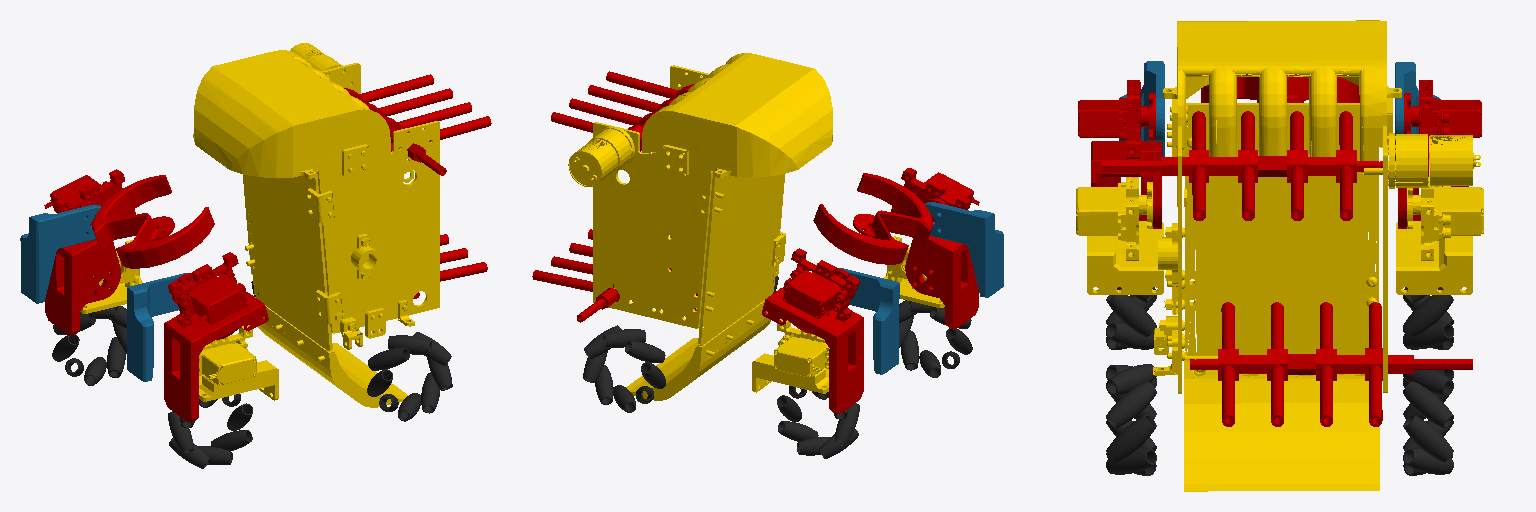
--- What the picture shows (computed from the rendered views, not written in the file) ---
Views: 3 orthographic renders of the robot side by side, from view 1: azimuth 30°, elevation 25°; view 2: azimuth 150°, elevation 25°; view 3: azimuth 270°, elevation 25°.
Model bloodstone with 55 links and 54 joints (43 continuous, 11 fixed), rooted at base_link, posed all joints at 0.
Links seen in each view (by area): view 1: intake_link, left_bin_grabber_pivot_link, right_bin_grabber_pivot_link, sorter_turntable_link, right_bin_grabber_finger_link, left_bin_grabber_base_link, intake_roller_1_link, left_bin_grabber_finger_link, right_bin_grabber_base_link, intake_roller_2_link, rear_right_roller_1, rear_right_roller_2 (+4 smaller); view 2: intake_link, right_bin_grabber_pivot_link, left_bin_grabber_pivot_link, sorter_turntable_link, left_bin_grabber_finger_link, right_bin_grabber_base_link, right_bin_grabber_finger_link, intake_roller_1_link, intake_roller_2_link, left_bin_grabber_base_link, front_right_roller_5, front_right_roller_6 (+4 smaller); view 3: intake_link, intake_roller_2_link, intake_roller_1_link, right_bin_grabber_base_link, left_bin_grabber_base_link, left_bin_grabber_pivot_link, right_bin_grabber_pivot_link, sorter_turntable_link, left_bin_grabber_finger_link, front_right_roller_7, rear_right_roller_3, front_right_roller_0 (+10 smaller).
Link boxes in pixels (x1,y1,x2,y2): intake_link: [193, 43, 439, 407]; left_bin_grabber_pivot_link: [164, 252, 268, 422]; right_bin_grabber_pivot_link: [44, 169, 135, 335]; sorter_turntable_link: [92, 175, 214, 268]; right_bin_grabber_finger_link: [20, 204, 100, 303]; left_bin_grabber_base_link: [199, 325, 278, 401]; intake_roller_1_link: [344, 74, 491, 175]; left_bin_grabber_finger_link: [127, 273, 192, 381]; right_bin_grabber_base_link: [80, 240, 142, 313]; intake_roller_2_link: [413, 234, 487, 298]; rear_right_roller_1: [368, 348, 409, 370]; rear_right_roller_2: [388, 335, 431, 354]; intake_link: [568, 53, 832, 400]; right_bin_grabber_pivot_link: [762, 248, 863, 413]; left_bin_grabber_pivot_link: [891, 168, 979, 328]; sorter_turntable_link: [813, 173, 932, 264]; left_bin_grabber_finger_link: [925, 202, 1003, 297]; right_bin_grabber_base_link: [752, 319, 829, 393]; right_bin_grabber_finger_link: [838, 268, 899, 374]; intake_roller_1_link: [551, 71, 694, 151]; intake_roller_2_link: [532, 229, 697, 322]; left_bin_grabber_base_link: [884, 236, 944, 307]; front_right_roller_5: [625, 341, 665, 362]; front_right_roller_6: [603, 329, 645, 347]; intake_link: [1153, 20, 1480, 491]; intake_roller_2_link: [1190, 302, 1472, 426]; intake_roller_1_link: [1102, 111, 1382, 220]; right_bin_grabber_base_link: [1396, 177, 1483, 294]; left_bin_grabber_base_link: [1076, 177, 1163, 294]; left_bin_grabber_pivot_link: [1078, 80, 1161, 228]; right_bin_grabber_pivot_link: [1398, 80, 1481, 228]; sorter_turntable_link: [1201, 74, 1359, 102]; left_bin_grabber_finger_link: [1119, 61, 1164, 156]; front_right_roller_7: [1403, 381, 1453, 427]; rear_right_roller_3: [1106, 381, 1156, 427]; front_right_roller_0: [1403, 415, 1453, 461].
Bounding box of the posed robot: 0.388 × 0.2765 × 0.2949 m (x, y, z).
42 mesh visuals loaded from 15 distinct referenced files (10 binary STL); not drawn: 7 (reference not matched to a file when rendering).

robot.urdf — bloodstone:
<?xml version="1.0" ?><!-- =================================================================================== --><!-- |    This document was autogenerated by xacro from /workspace/DevEnv/jazzy_ws/install/grr_description/share/grr_description/urdf/robots/grreg.urdf.xacro | --><!-- |    EDITING THIS FILE BY HAND IS NOT RECOMMENDED                                 | --><!-- =================================================================================== --><robot name="bloodstone"><!-- Specify some standard inertial calculations https://en.wikipedia.org/wiki/List_of_moments_of_inertia --><!-- These make use of xacro's mathematical functionality --><material name="black"><color rgba="0.0 0.0 0.0 1.0"/></material><material name="blue"><color rgba="0.13725490196078433 0.43137254901960786 0.5882352941176471 1.0"/></material><material name="green"><color rgba="0.0 0.8 0.0 1.0"/></material><material name="grey"><color rgba="0.2 0.2 0.2 1.0"/></material><material name="yellow"><color rgba="1.0 0.8431372549019608 0.0 1"/></material><material name="orange"><color rgba="0.9529411764705882 0.5294117647058824 0.1843137254901961 1"/></material><material name="brown"><color rgba="0.8705882352941177 0.8117647058823529 0.7647058823529411 1.0"/></material><material name="red"><color rgba="0.8 0.0 0.0 1.0"/></material><material name="white"><color rgba="1.0 1.0 1.0 1.0"/></material><material name="silver"><color rgba="0.700 0.700 0.700 1.000"/></material><material name="aluminum"><color rgba="0.5 0.5 0.5 1"/></material><material name="plastic"><color rgba="0.1 0.1 0.1 1"/></material><material name="zed_mat"><color rgba="0.8 0.8 0.8 1.0"/></material><material name="zedm_mat"><color rgba="0 0 0 1.0"/></material><material name="zed2_mat"><color rgba="0.25 0.25 0.25 1.0"/></material><material name="zed2i_mat"><color rgba="0.25 0.25 0.25 1.0"/></material><material name="zedx_mat"><color rgba="0.25 0.25 0.25 1.0"/></material><material name="zedxm_mat"><color rgba="0.25 0.25 0.25 1.0"/></material><material name="virtual_mat"><color rgba="0.25 0.25 0.25 1.0"/></material><material name="zedxonegs_mat"><color rgba="0.25 0.25 0.25 1.0"/></material><material name="zedxone4k_mat"><color rgba="0.25 0.25 0.25 1.0"/></material><link name="base_link"/><link name="chassis_link"><inertial><origin rpy="0 0 0" xyz="0 0 0"/><mass value="2.45"/><inertia ixx="0.025954687500000004" ixy="0.0" ixz="0.0" iyy="0.0103359375" iyz="0.0" izz="0.028848750000000003"/></inertial><visual><origin rpy="0 0 3.141592653589793" xyz="0 0 0"/><geometry><mesh filename="package://grr_description/meshes/drivebase.stl" scale="1 1 1"/></geometry><!-- <material name="blue"/> --></visual><collision><origin rpy="0 0 0" xyz="0 0 0"/><geometry><box size="0.18 0.33 0.0675"/></geometry></collision></link><joint name="chassis_joint" type="fixed"><parent link="base_link"/><child link="chassis_link"/><origin rpy="0 0 0" xyz="0 0 0"/></joint><link name="front_right_mecanum_link"><inertial><origin rpy="0 1.5707963267948966 0" xyz="0 0 0"/><mass value="1.1360000000000001"/><inertia ixx="0.00042284766390000004" ixy="0.0" ixz="0.0" iyy="0.00042284766390000004" iyz="0.0" izz="0.0005117113278"/></inertial><visual><origin rpy="0 0 0" xyz="0 0 0"/><geometry><mesh filename="package://grr_description/meshes/mecanum_wheel_1.stl" scale="0.001 0.001 0.001"/></geometry><material name="orange"/></visual><collision><origin rpy="0 0 0" xyz="0 0 0"/><geometry><cylinder length="0.042" radius="0.030015"/></geometry></collision></link><joint name="front_right_mecanum_joint" type="continuous"><origin rpy="0 1.5707963267948966 0" xyz="0.10075 0.10075 0"/><parent link="chassis_link"/><child link="front_right_mecanum_link"/><axis xyz="0.0 -1.0 0.0 "/></joint><!-- <xacro:if value="${number==1}">
    </xacro:if>
    <xacro:if value="${number==3}">
    </xacro:if>
    <xacro:if value="${number==5}">
    </xacro:if>
    <xacro:if value="${number==7}">
      <xacro:property name="roller_x_rot" value="${(sin(roller_radians) * (pi/4) * type_offset)+(1.831*pi/180)}" />
      <xacro:property name="roller_y_rot" value="${(cos(roller_radians) * (pi/4) * type_offset)+(3.095*pi/180)}" />
      <xacro:property name="roller_z_rot" value="${(5.395*pi/180)}"/>
    </xacro:if> --><link name="front_right_roller_0"><visual><origin rpy="0 0 -1.5707963267948966 " xyz="0 0 0"/><geometry><mesh filename="package://grr_description/meshes/mecanum_roller.stl" scale="0.001 0.001 0.001"/></geometry><material name="grey"/></visual><collision><origin rpy="0 0 0" xyz="0 0 0"/><geometry><mesh filename="package://grr_description/meshes/mecanum_roller.stl" scale="0.001 0.001 0.001"/></geometry></collision><inertial><origin rpy="0 0 0" xyz="0 0 0"/><mass value="0.07"/><inertia ixx="9.426025000000001e-06" ixy="0.0" ixz="0.0" iyy="9.426025000000001e-06" iyz="0.0" izz="1.9166000000000004e-06"/></inertial></link><joint name="front_right_roller_0_joint" type="continuous"><origin rpy="-0.0 0 -0.7853981633974483" xyz="0.0 0 0.030015"/><parent link="front_right_mecanum_link"/><child link="front_right_roller_0"/><axis xyz="0.0 0.0 1.0"/></joint><!-- <xacro:if value="${number==1}">
    </xacro:if>
    <xacro:if value="${number==3}">
    </xacro:if>
    <xacro:if value="${number==5}">
    </xacro:if>
    <xacro:if value="${number==7}">
      <xacro:property name="roller_x_rot" value="${(sin(roller_radians) * (pi/4) * type_offset)+(1.831*pi/180)}" />
      <xacro:property name="roller_y_rot" value="${(cos(roller_radians) * (pi/4) * type_offset)+(3.095*pi/180)}" />
      <xacro:property name="roller_z_rot" value="${(5.395*pi/180)}"/>
    </xacro:if> --><link name="front_right_roller_1"><visual><origin rpy="0 0 -1.5707963267948966 " xyz="0 0 0"/><geometry><mesh filename="package://grr_description/meshes/mecanum_roller.stl" scale="0.001 0.001 0.001"/></geometry><material name="grey"/></visual><collision><origin rpy="0 0 0" xyz="0 0 0"/><geometry><mesh filename="package://grr_description/meshes/mecanum_roller.stl" scale="0.001 0.001 0.001"/></geometry></collision><inertial><origin rpy="0 0 0" xyz="0 0 0"/><mass value="0.07"/><inertia ixx="9.426025000000001e-06" ixy="0.0" ixz="0.0" iyy="9.426025000000001e-06" iyz="0.0" izz="1.9166000000000004e-06"/></inertial></link><joint name="front_right_roller_1_joint" type="continuous"><origin rpy="-0.5553603672697958 0 -0.5553603672697958" xyz="0.02122381003731422 0 0.021223810037314224"/><parent link="front_right_mecanum_link"/><child link="front_right_roller_1"/><axis xyz="0.0 0.0 1.0"/></joint><!-- <xacro:if value="${number==1}">
    </xacro:if>
    <xacro:if value="${number==3}">
    </xacro:if>
    <xacro:if value="${number==5}">
    </xacro:if>
    <xacro:if value="${number==7}">
      <xacro:property name="roller_x_rot" value="${(sin(roller_radians) * (pi/4) * type_offset)+(1.831*pi/180)}" />
      <xacro:property name="roller_y_rot" value="${(cos(roller_radians) * (pi/4) * type_offset)+(3.095*pi/180)}" />
      <xacro:property name="roller_z_rot" value="${(5.395*pi/180)}"/>
    </xacro:if> --><link name="front_right_roller_2"><visual><origin rpy="0 0 -1.5707963267948966 " xyz="0 0 0"/><geometry><mesh filename="package://grr_description/meshes/mecanum_roller.stl" scale="0.001 0.001 0.001"/></geometry><material name="grey"/></visual><collision><origin rpy="0 0 0" xyz="0 0 0"/><geometry><mesh filename="package://grr_description/meshes/mecanum_roller.stl" scale="0.001 0.001 0.001"/></geometry></collision><inertial><origin rpy="0 0 0" xyz="0 0 0"/><mass value="0.07"/><inertia ixx="9.426025000000001e-06" ixy="0.0" ixz="0.0" iyy="9.426025000000001e-06" iyz="0.0" izz="1.9166000000000004e-06"/></inertial></link><joint name="front_right_roller_2_joint" type="continuous"><origin rpy="-0.7853981633974483 0 -4.8091767343044744e-17" xyz="0.030015 0 1.8378886838203904e-18"/><parent link="front_right_mecanum_link"/><child link="front_right_roller_2"/><axis xyz="0.0 0.0 1.0"/></joint><!-- <xacro:if value="${number==1}">
    </xacro:if>
    <xacro:if value="${number==3}">
    </xacro:if>
    <xacro:if value="${number==5}">
    </xacro:if>
    <xacro:if value="${number==7}">
      <xacro:property name="roller_x_rot" value="${(sin(roller_radians) * (pi/4) * type_offset)+(1.831*pi/180)}" />
      <xacro:property name="roller_y_rot" value="${(cos(roller_radians) * (pi/4) * type_offset)+(3.095*pi/180)}" />
      <xacro:property name="roller_z_rot" value="${(5.395*pi/180)}"/>
    </xacro:if> --><link name="front_right_roller_3"><visual><origin rpy="0 0 -1.5707963267948966 " xyz="0 0 0"/><geometry><mesh filename="package://grr_description/meshes/mecanum_roller.stl" scale="0.001 0.001 0.001"/></geometry><material name="grey"/></visual><collision><origin rpy="0 0 0" xyz="0 0 0"/><geometry><mesh filename="package://grr_description/meshes/mecanum_roller.stl" scale="0.001 0.001 0.001"/></geometry></collision><inertial><origin rpy="0 0 0" xyz="0 0 0"/><mass value="0.07"/><inertia ixx="9.426025000000001e-06" ixy="0.0" ixz="0.0" iyy="9.426025000000001e-06" iyz="0.0" izz="1.9166000000000004e-06"/></inertial></link><joint name="front_right_roller_3_joint" type="continuous"><origin rpy="-0.5553603672697958 0 0.5553603672697958" xyz="0.021223810037314224 0 -0.02122381003731422"/><parent link="front_right_mecanum_link"/><child link="front_right_roller_3"/><axis xyz="0.0 0.0 1.0"/></joint><!-- <xacro:if value="${number==1}">
    </xacro:if>
    <xacro:if value="${number==3}">
    </xacro:if>
    <xacro:if value="${number==5}">
    </xacro:if>
    <xacro:if value="${number==7}">
      <xacro:property name="roller_x_rot" value="${(sin(roller_radians) * (pi/4) * type_offset)+(1.831*pi/180)}" />
      <xacro:property name="roller_y_rot" value="${(cos(roller_radians) * (pi/4) * type_offset)+(3.095*pi/180)}" />
      <xacro:property name="roller_z_rot" value="${(5.395*pi/180)}"/>
    </xacro:if> --><link name="front_right_roller_4"><visual><origin rpy="0 0 -1.5707963267948966 " xyz="0 0 0"/><geometry><mesh filename="package://grr_description/meshes/mecanum_roller.stl" scale="0.001 0.001 0.001"/></geometry><material name="grey"/></visual><collision><origin rpy="0 0 0" xyz="0 0 0"/><geometry><mesh filename="package://grr_description/meshes/mecanum_roller.stl" scale="0.001 0.001 0.001"/></geometry></collision><inertial><origin rpy="0 0 0" xyz="0 0 0"/><mass value="0.07"/><inertia ixx="9.426025000000001e-06" ixy="0.0" ixz="0.0" iyy="9.426025000000001e-06" iyz="0.0" izz="1.9166000000000004e-06"/></inertial></link><joint name="front_right_roller_4_joint" type="continuous"><origin rpy="-9.618353468608949e-17 0 0.7853981633974483" xyz="3.675777367640781e-18 0 -0.030015"/><parent link="front_right_mecanum_link"/><child link="front_right_roller_4"/><axis xyz="0.0 0.0 1.0"/></joint><!-- <xacro:if value="${number==1}">
    </xacro:if>
    <xacro:if value="${number==3}">
    </xacro:if>
    <xacro:if value="${number==5}">
    </xacro:if>
    <xacro:if value="${number==7}">
      <xacro:property name="roller_x_rot" value="${(sin(roller_radians) * (pi/4) * type_offset)+(1.831*pi/180)}" />
      <xacro:property name="roller_y_rot" value="${(cos(roller_radians) * (pi/4) * type_offset)+(3.095*pi/180)}" />
      <xacro:property name="roller_z_rot" value="${(5.395*pi/180)}"/>
    </xacro:if> --><link name="front_right_roller_5"><visual><origin rpy="0 0 -1.5707963267948966 " xyz="0 0 0"/><geometry><mesh filename="package://grr_description/meshes/mecanum_roller.stl" scale="0.001 0.001 0.001"/></geometry><material name="grey"/></visual><collision><origin rpy="0 0 0" xyz="0 0 0"/><geometry><mesh filename="package://grr_description/meshes/mecanum_roller.stl" scale="0.001 0.001 0.001"/></geometry></collision><inertial><origin rpy="0 0 0" xyz="0 0 0"/><mass value="0.07"/><inertia ixx="9.426025000000001e-06" ixy="0.0" ixz="0.0" iyy="9.426025000000001e-06" iyz="0.0" izz="1.9166000000000004e-06"/></inertial></link><joint name="front_right_roller_5_joint" type="continuous"><origin rpy="0.5553603672697958 0 0.5553603672697959" xyz="-0.02122381003731422 0 -0.021223810037314227"/><parent link="front_right_mecanum_link"/><child link="front_right_roller_5"/><axis xyz="0.0 0.0 1.0"/></joint><!-- <xacro:if value="${number==1}">
    </xacro:if>
    <xacro:if value="${number==3}">
    </xacro:if>
    <xacro:if value="${number==5}">
    </xacro:if>
    <xacro:if value="${number==7}">
      <xacro:property name="roller_x_rot" value="${(sin(roller_radians) * (pi/4) * type_offset)+(1.831*pi/180)}" />
      <xacro:property name="roller_y_rot" value="${(cos(roller_radians) * (pi/4) * type_offset)+(3.095*pi/180)}" />
      <xacro:property name="roller_z_rot" value="${(5.395*pi/180)}"/>
    </xacro:if> --><link name="front_right_roller_6"><visual><origin rpy="0 0 -1.5707963267948966 " xyz="0 0 0"/><geometry><mesh filename="package://grr_description/meshes/mecanum_roller.stl" scale="0.001 0.001 0.001"/></geometry><material name="grey"/></visual><collision><origin rpy="0 0 0" xyz="0 0 0"/><geometry><mesh filename="package://grr_description/meshes/mecanum_roller.stl" scale="0.001 0.001 0.001"/></geometry></collision><inertial><origin rpy="0 0 0" xyz="0 0 0"/><mass value="0.07"/><inertia ixx="9.426025000000001e-06" ixy="0.0" ixz="0.0" iyy="9.426025000000001e-06" iyz="0.0" izz="1.9166000000000004e-06"/></inertial></link><joint name="front_right_roller_6_joint" type="continuous"><origin rpy="0.7853981633974483 0 1.4427530202913423e-16" xyz="-0.030015 0 -5.513666051461171e-18"/><parent link="front_right_mecanum_link"/><child link="front_right_roller_6"/><axis xyz="0.0 0.0 1.0"/></joint><!-- <xacro:if value="${number==1}">
    </xacro:if>
    <xacro:if value="${number==3}">
    </xacro:if>
    <xacro:if value="${number==5}">
    </xacro:if>
    <xacro:if value="${number==7}">
      <xacro:property name="roller_x_rot" value="${(sin(roller_radians) * (pi/4) * type_offset)+(1.831*pi/180)}" />
      <xacro:property name="roller_y_rot" value="${(cos(roller_radians) * (pi/4) * type_offset)+(3.095*pi/180)}" />
      <xacro:property name="roller_z_rot" value="${(5.395*pi/180)}"/>
    </xacro:if> --><link name="front_right_roller_7"><visual><origin rpy="0 0 -1.5707963267948966 " xyz="0 0 0"/><geometry><mesh filename="package://grr_description/meshes/mecanum_roller.stl" scale="0.001 0.001 0.001"/></geometry><material name="grey"/></visual><collision><origin rpy="0 0 0" xyz="0 0 0"/><geometry><mesh filename="package://grr_description/meshes/mecanum_roller.stl" scale="0.001 0.001 0.001"/></geometry></collision><inertial><origin rpy="0 0 0" xyz="0 0 0"/><mass value="0.07"/><inertia ixx="9.426025000000001e-06" ixy="0.0" ixz="0.0" iyy="9.426025000000001e-06" iyz="0.0" izz="1.9166000000000004e-06"/></inertial></link><joint name="front_right_roller_7_joint" type="continuous"><origin rpy="0.5553603672697959 0 -0.5553603672697957" xyz="-0.021223810037314227 0 0.02122381003731422"/><parent link="front_right_mecanum_link"/><child link="front_right_roller_7"/><axis xyz="0.0 0.0 1.0"/></joint><link name="rear_left_mecanum_link"><inertial><origin rpy="0 1.5707963267948966 0" xyz="0 0 0"/><mass value="1.1360000000000001"/><inertia ixx="0.00042284766390000004" ixy="0.0" ixz="0.0" iyy="0.00042284766390000004" iyz="0.0" izz="0.0005117113278"/></inertial><visual><origin rpy="0 0 0" xyz="0 0 0"/><geometry><mesh filename="package://grr_description/meshes/mecanum_wheel_1.stl" scale="0.001 0.001 0.001"/></geometry><material name="orange"/></visual><collision><origin rpy="0 0 0" xyz="0 0 0"/><geometry><cylinder length="0.042" radius="0.030015"/></geometry></collision></link><joint name="rear_left_mecanum_joint" type="continuous"><origin rpy="0 -1.5707963267948966 0" xyz="-0.10075 -0.10075 0"/><parent link="chassis_link"/><child link="rear_left_mecanum_link"/><axis xyz="0.0 1.0 0.0 "/></joint><!-- <xacro:if value="${number==1}">
    </xacro:if>
    <xacro:if value="${number==3}">
    </xacro:if>
    <xacro:if value="${number==5}">
    </xacro:if>
    <xacro:if value="${number==7}">
      <xacro:property name="roller_x_rot" value="${(sin(roller_radians) * (pi/4) * type_offset)+(1.831*pi/180)}" />
      <xacro:property name="roller_y_rot" value="${(cos(roller_radians) * (pi/4) * type_offset)+(3.095*pi/180)}" />
      <xacro:property name="roller_z_rot" value="${(5.395*pi/180)}"/>
    </xacro:if> --><link name="rear_left_roller_0"><visual><origin rpy="0 0 -1.5707963267948966 " xyz="0 0 0"/><geometry><mesh filename="package://grr_description/meshes/mecanum_roller.stl" scale="0.001 0.001 0.001"/></geometry><material name="grey"/></visual><collision><origin rpy="0 0 0" xyz="0 0 0"/><geometry><mesh filename="package://grr_description/meshes/mecanum_roller.stl" scale="0.001 0.001 0.001"/></geometry></collision><inertial><origin rpy="0 0 0" xyz="0 0 0"/><mass value="0.07"/><inertia ixx="9.426025000000001e-06" ixy="0.0" ixz="0.0" iyy="9.426025000000001e-06" iyz="0.0" izz="1.9166000000000004e-06"/></inertial></link><joint name="rear_left_roller_0_joint" type="continuous"><origin rpy="-0.0 0 -0.7853981633974483" xyz="0.0 0 0.030015"/><parent link="rear_left_mecanum_link"/><child link="rear_left_roller_0"/><axis xyz="0.0 0.0 1.0"/></joint><!-- <xacro:if value="${number==1}">
    </xacro:if>
    <xacro:if value="${number==3}">
    </xacro:if>
    <xacro:if value="${number==5}">
    </xacro:if>
    <xacro:if value="${number==7}">
      <xacro:property name="roller_x_rot" value="${(sin(roller_radians) * (pi/4) * type_offset)+(1.831*pi/180)}" />
      <xacro:property name="roller_y_rot" value="${(cos(roller_radians) * (pi/4) * type_offset)+(3.095*pi/180)}" />
      <xacro:property name="roller_z_rot" value="${(5.395*pi/180)}"/>
    </xacro:if> --><link name="rear_left_roller_1"><visual><origin rpy="0 0 -1.5707963267948966 " xyz="0 0 0"/><geometry><mesh filename="package://grr_description/meshes/mecanum_roller.stl" scale="0.001 0.001 0.001"/></geometry><material name="grey"/></visual><collision><origin rpy="0 0 0" xyz="0 0 0"/><geometry><mesh filename="package://grr_description/meshes/mecanum_roller.stl" scale="0.001 0.001 0.001"/></geometry></collision><inertial><origin rpy="0 0 0" xyz="0 0 0"/><mass value="0.07"/><inertia ixx="9.426025000000001e-06" ixy="0.0" ixz="0.0" iyy="9.426025000000001e-06" iyz="0.0" izz="1.9166000000000004e-06"/></inertial></link><joint name="rear_left_roller_1_joint" type="continuous"><origin rpy="-0.5553603672697958 0 -0.5553603672697958" xyz="0.02122381003731422 0 0.021223810037314224"/><parent link="rear_left_mecanum_link"/><child link="rear_left_roller_1"/><axis xyz="0.0 0.0 1.0"/></joint><!-- <xacro:if value="${number==1}">
    </xacro:if>
    <xacro:if value="${number==3}">
    </xacro:if>
    <xacro:if value="${number==5}">
    </xacro:if>
    <xacro:if value="${number==7}">
      <xacro:property name="roller_x_rot" value="${(sin(roller_radians) * (pi/4) * type_offset)+(1.831*pi/180)}" />
      <xacro:property name="roller_y_rot" value="${(cos(roller_radians) * (pi/4) * type_offset)+(3.095*pi/180)}" />
      <xacro:property name="roller_z_rot" value="${(5.395*pi/180)}"/>
    </xacro:if> --><link name="rear_left_roller_2"><visual><origin rpy="0 0 -1.5707963267948966 " xyz="0 0 0"/><geometry><mesh filename="package://grr_description/meshes/mecanum_roller.stl" scale="0.001 0.001 0.001"/></geometry><material name="grey"/></visual><collision><origin rpy="0 0 0" xyz="0 0 0"/><geometry><mesh filename="package://grr_description/meshes/mecanum_roller.stl" scale="0.001 0.001 0.001"/></geometry></collision><inertial><origin rpy="0 0 0" xyz="0 0 0"/><mass value="0.07"/><inertia ixx="9.426025000000001e-06" ixy="0.0" ixz="0.0" iyy="9.426025000000001e-06" iyz="0.0" izz="1.9166000000000004e-06"/></inertial></link><joint name="rear_left_roller_2_joint" type="continuous"><origin rpy="-0.7853981633974483 0 -4.8091767343044744e-17" xyz="0.030015 0 1.8378886838203904e-18"/><parent link="rear_left_mecanum_link"/><child link="rear_left_roller_2"/><axis xyz="0.0 0.0 1.0"/></joint><!-- <xacro:if value="${number==1}">
    </xacro:if>
    <xacro:if value="${number==3}">
    </xacro:if>
    <xacro:if value="${number==5}">
    </xacro:if>
    <xacro:if value="${number==7}">
      <xacro:property name="roller_x_rot" value="${(sin(roller_radians) * (pi/4) * type_offset)+(1.831*pi/180)}" />
      <xacro:property name="roller_y_rot" value="${(cos(roller_radians) * (pi/4) * type_offset)+(3.095*pi/180)}" />
      <xacro:property name="roller_z_rot" value="${(5.395*pi/180)}"/>
    </xacro:if> --><link name="rear_left_roller_3"><visual><origin rpy="0 0 -1.5707963267948966 " xyz="0 0 0"/><geometry><mesh filename="package://grr_description/meshes/mecanum_roller.stl" scale="0.001 0.001 0.001"/></geometry><material name="grey"/></visual><collision><origin rpy="0 0 0" xyz="0 0 0"/><geometry><mesh filename="package://grr_description/meshes/mecanum_roller.stl" scale="0.001 0.001 0.001"/></geometry></collision><inertial><origin rpy="0 0 0" xyz="0 0 0"/><mass value="0.07"/><inertia ixx="9.426025000000001e-06" ixy="0.0" ixz="0.0" iyy="9.426025000000001e-06" iyz="0.0" izz="1.9166000000000004e-06"/></inertial></link><joint name="rear_left_roller_3_joint" type="continuous"><origin rpy="-0.5553603672697958 0 0.5553603672697958" xyz="0.021223810037314224 0 -0.02122381003731422"/><parent link="rear_left_mecanum_link"/><child link="rear_left_roller_3"/><axis xyz="0.0 0.0 1.0"/></joint><!-- <xacro:if value="${number==1}">
    </xacro:if>
    <xacro:if value="${number==3}">
    </xacro:if>
    <xacro:if value="${number==5}">
    </xacro:if>
    <xacro:if value="${number==7}">
      <xacro:property name="roller_x_rot" value="${(sin(roller_radians) * (pi/4) * type_offset)+(1.831*pi/180)}" />
      <xacro:property name="roller_y_rot" value="${(cos(roller_radians) * (pi/4) * type_offset)+(3.095*pi/180)}" />
      <xacro:property name="roller_z_rot" value="${(5.395*pi/180)}"/>
    </xacro:if> --><link name="rear_left_roller_4"><visual><origin rpy="0 0 -1.5707963267948966 " xyz="0 0 0"/><geometry><mesh filename="package://grr_description/meshes/mecanum_roller.stl" scale="0.001 0.001 0.001"/></geometry><material name="grey"/></visual><collision><origin rpy="0 0 0" xyz="0 0 0"/><geometry><mesh filename="package://grr_description/meshes/mecanum_roller.stl" scale="0.001 0.001 0.001"/></geometry></collision><inertial><origin rpy="0 0 0" xyz="0 0 0"/><mass value="0.07"/><inertia ixx="9.426025000000001e-06" ixy="0.0" ixz="0.0" iyy="9.426025000000001e-06" iyz="0.0" izz="1.9166000000000004e-06"/></inertial></link><joint name="rear_left_roller_4_joint" type="continuous"><origin rpy="-9.618353468608949e-17 0 0.7853981633974483" xyz="3.675777367640781e-18 0 -0.030015"/><parent link="rear_left_mecanum_link"/><child link="rear_left_roller_4"/><axis xyz="0.0 0.0 1.0"/></joint><!-- <xacro:if value="${number==1}">
    </xacro:if>
    <xacro:if value="${number==3}">
    </xacro:if>
    <xacro:if value="${number==5}">
    </xacro:if>
    <xacro:if value="${number==7}">
      <xacro:property name="roller_x_rot" value="${(sin(roller_radians) * (pi/4) * type_offset)+(1.831*pi/180)}" />
      <xacro:property name="roller_y_rot" value="${(cos(roller_radians) * (pi/4) * type_offset)+(3.095*pi/180)}" />
      <xacro:property name="roller_z_rot" value="${(5.395*pi/180)}"/>
    </xacro:if> --><link name="rear_left_roller_5"><visual><origin rpy="0 0 -1.5707963267948966 " xyz="0 0 0"/><geometry><mesh filename="package://grr_description/meshes/mecanum_roller.stl" scale="0.001 0.001 0.001"/></geometry><material name="grey"/></visual><collision><origin rpy="0 0 0" xyz="0 0 0"/><geometry><mesh filename="package://grr_description/meshes/mecanum_roller.stl" scale="0.001 0.001 0.001"/></geometry></collision><inertial><origin rpy="0 0 0" xyz="0 0 0"/><mass value="0.07"/><inertia ixx="9.426025000000001e-06" ixy="0.0" ixz="0.0" iyy="9.426025000000001e-06" iyz="0.0" izz="1.9166000000000004e-06"/></inertial></link><joint name="rear_left_roller_5_joint" type="continuous"><origin rpy="0.5553603672697958 0 0.5553603672697959" xyz="-0.02122381003731422 0 -0.021223810037314227"/><parent link="rear_left_mecanum_link"/><child link="rear_left_roller_5"/><axis xyz="0.0 0.0 1.0"/></joint><!-- <xacro:if value="${number==1}">
    </xacro:if>
    <xacro:if value="${number==3}">
    </xacro:if>
    <xacro:if value="${number==5}">
    </xacro:if>
    <xacro:if value="${number==7}">
      <xacro:property name="roller_x_rot" value="${(sin(roller_radians) * (pi/4) * type_offset)+(1.831*pi/180)}" />
      <xacro:property name="roller_y_rot" value="${(cos(roller_radians) * (pi/4) * type_offset)+(3.095*pi/180)}" />
      <xacro:property name="roller_z_rot" value="${(5.395*pi/180)}"/>
    </xacro:if> --><link name="rear_left_roller_6"><visual><origin rpy="0 0 -1.5707963267948966 " xyz="0 0 0"/><geometry><mesh filename="package://grr_description/meshes/mecanum_roller.stl" scale="0.001 0.001 0.001"/></geometry><material name="grey"/></visual><collision><origin rpy="0 0 0" xyz="0 0 0"/><geometry><mesh filename="package://grr_description/meshes/mecanum_roller.stl" scale="0.001 0.001 0.001"/></geometry></collision><inertial><origin rpy="0 0 0" xyz="0 0 0"/><mass value="0.07"/><inertia ixx="9.426025000000001e-06" ixy="0.0" ixz="0.0" iyy="9.426025000000001e-06" iyz="0.0" izz="1.9166000000000004e-06"/></inertial></link><joint name="rear_left_roller_6_joint" type="continuous"><origin rpy="0.7853981633974483 0 1.4427530202913423e-16" xyz="-0.030015 0 -5.513666051461171e-18"/><parent link="rear_left_mecanum_link"/><child link="rear_left_roller_6"/><axis xyz="0.0 0.0 1.0"/></joint><!-- <xacro:if value="${number==1}">
    </xacro:if>
    <xacro:if value="${number==3}">
    </xacro:if>
    <xacro:if value="${number==5}">
    </xacro:if>
    <xacro:if value="${number==7}">
      <xacro:property name="roller_x_rot" value="${(sin(roller_radians) * (pi/4) * type_offset)+(1.831*pi/180)}" />
      <xacro:property name="roller_y_rot" value="${(cos(roller_radians) * (pi/4) * type_offset)+(3.095*pi/180)}" />
      <xacro:property name="roller_z_rot" value="${(5.395*pi/180)}"/>
    </xacro:if> --><link name="rear_left_roller_7"><visual><origin rpy="0 0 -1.5707963267948966 " xyz="0 0 0"/><geometry><mesh filename="package://grr_description/meshes/mecanum_roller.stl" scale="0.001 0.001 0.001"/></geometry><material name="grey"/></visual><collision><origin rpy="0 0 0" xyz="0 0 0"/><geometry><mesh filename="package://grr_description/meshes/mecanum_roller.stl" scale="0.001 0.001 0.001"/></geometry></collision><inertial><origin rpy="0 0 0" xyz="0 0 0"/><mass value="0.07"/><inertia ixx="9.426025000000001e-06" ixy="0.0" ixz="0.0" iyy="9.426025000000001e-06" iyz="0.0" izz="1.9166000000000004e-06"/></inertial></link><joint name="rear_left_roller_7_joint" type="continuous"><origin rpy="0.5553603672697959 0 -0.5553603672697957" xyz="-0.021223810037314227 0 0.02122381003731422"/><parent link="rear_left_mecanum_link"/><child link="rear_left_roller_7"/><axis xyz="0.0 0.0 1.0"/></joint><link name="front_left_mecanum_link"><inertial><origin rpy="0 1.5707963267948966 0" xyz="0 0 0"/><mass value="1.1360000000000001"/><inertia ixx="0.00042284766390000004" ixy="0.0" ixz="0.0" iyy="0.00042284766390000004" iyz="0.0" izz="0.0005117113278"/></inertial><visual><origin rpy="0 0 0" xyz="0 0 0"/><geometry><mesh filename="package://grr_description/meshes/mecanum_wheel_2.stl" scale="0.001 0.001 0.001"/></geometry><material name="orange"/></visual><collision><origin rpy="0 0 0" xyz="0 0 0"/><geometry><cylinder length="0.042" radius="0.030015"/></geometry></collision></link><joint name="front_left_mecanum_joint" type="continuous"><origin rpy="0 1.5707963267948966 0" xyz="-0.10075 0.10075 0"/><parent link="chassis_link"/><child link="front_left_mecanum_link"/><axis xyz="0.0 -1.0 0.0 "/></joint><!-- <xacro:if value="${number==1}">
    </xacro:if>
    <xacro:if value="${number==3}">
    </xacro:if>
    <xacro:if value="${number==5}">
    </xacro:if>
    <xacro:if value="${number==7}">
      <xacro:property name="roller_x_rot" value="${(sin(roller_radians) * (pi/4) * type_offset)+(1.831*pi/180)}" />
      <xacro:property name="roller_y_rot" value="${(cos(roller_radians) * (pi/4) * type_offset)+(3.095*pi/180)}" />
      <xacro:property name="roller_z_rot" value="${(5.395*pi/180)}"/>
    </xacro:if> --><link name="front_left_roller_0"><visual><origin rpy="0 0 -1.5707963267948966 " xyz="0 0 0"/><geometry><mesh filename="package://grr_description/meshes/mecanum_roller.stl" scale="0.001 0.001 0.001"/></geometry><material name="grey"/></visual><collision><origin rpy="0 0 0" xyz="0 0 0"/><geometry><mesh filename="package://grr_description/meshes/mecanum_roller.stl" scale="0.001 0.001 0.001"/></geometry></collision><inertial><origin rpy="0 0 0" xyz="0 0 0"/><mass value="0.07"/><inertia ixx="9.426025000000001e-06" ixy="0.0" ixz="0.0" iyy="9.426025000000001e-06" iyz="0.0" izz="1.9166000000000004e-06"/></inertial></link><joint name="front_left_roller_0_joint" type="continuous"><origin rpy="0.0 0 0.7853981633974483" xyz="0.0 0 0.030015"/><parent link="front_left_mecanum_link"/><child link="front_left_roller_0"/><axis xyz="0.0 0.0 1.0"/></joint><!-- <xacro:if value="${number==1}">
    </xacro:if>
    <xacro:if value="${number==3}">
    </xacro:if>
    <xacro:if value="${number==5}">
    </xacro:if>
    <xacro:if value="${number==7}">
      <xacro:property name="roller_x_rot" value="${(sin(roller_radians) * (pi/4) * type_offset)+(1.831*pi/180)}" />
      <xacro:property name="roller_y_rot" value="${(cos(roller_radians) * (pi/4) * type_offset)+(3.095*pi/180)}" />
      <xacro:property name="roller_z_rot" value="${(5.395*pi/180)}"/>
    </xacro:if> --><link name="front_left_roller_1"><visual><origin rpy="0 0 -1.5707963267948966 " xyz="0 0 0"/><geometry><mesh filename="package://grr_description/meshes/mecanum_roller.stl" scale="0.001 0.001 0.001"/></geometry><material name="grey"/></visual><collision><origin rpy="0 0 0" xyz="0 0 0"/><geometry><mesh filename="package://grr_description/meshes/mecanum_roller.stl" scale="0.001 0.001 0.001"/></geometry></collision><inertial><origin rpy="0 0 0" xyz="0 0 0"/><mass value="0.07"/><inertia ixx="9.426025000000001e-06" ixy="0.0" ixz="0.0" iyy="9.426025000000001e-06" iyz="0.0" izz="1.9166000000000004e-06"/></inertial></link><joint name="front_left_roller_1_joint" type="continuous"><origin rpy="0.5553603672697958 0 0.5553603672697958" xyz="0.02122381003731422 0 0.021223810037314224"/><parent link="front_left_mecanum_link"/><child link="front_left_roller_1"/><axis xyz="0.0 0.0 1.0"/></joint><!-- <xacro:if value="${number==1}">
    </xacro:if>
    <xacro:if value="${number==3}">
    </xacro:if>
    <xacro:if value="${number==5}">
    </xacro:if>
    <xacro:if value="${number==7}">
      <xacro:property name="roller_x_rot" value="${(sin(roller_radians) * (pi/4) * type_offset)+(1.831*pi/180)}" />
      <xacro:property name="roller_y_rot" value="${(cos(roller_radians) * (pi/4) * type_offset)+(3.095*pi/180)}" />
      <xacro:property name="roller_z_rot" value="${(5.395*pi/180)}"/>
    </xacro:if> --><link name="front_left_roller_2"><visual><origin rpy="0 0 -1.5707963267948966 " xyz="0 0 0"/><geometry><mesh filename="package://grr_description/meshes/mecanum_roller.stl" scale="0.001 0.001 0.001"/></geometry><material name="grey"/></visual><collision><origin rpy="0 0 0" xyz="0 0 0"/><geometry><mesh filename="package://grr_description/meshes/mecanum_roller.stl" scale="0.001 0.001 0.001"/></geometry></collision><inertial><origin rpy="0 0 0" xyz="0 0 0"/><mass value="0.07"/><inertia ixx="9.426025000000001e-06" ixy="0.0" ixz="0.0" iyy="9.426025000000001e-06" iyz="0.0" izz="1.9166000000000004e-06"/></inertial></link><joint name="front_left_roller_2_joint" type="continuous"><origin rpy="0.7853981633974483 0 4.8091767343044744e-17" xyz="0.030015 0 1.8378886838203904e-18"/><parent link="front_left_mecanum_link"/><child link="front_left_roller_2"/><axis xyz="0.0 0.0 1.0"/></joint><!-- <xacro:if value="${number==1}">
    </xacro:if>
    <xacro:if value="${number==3}">
    </xacro:if>
    <xacro:if value="${number==5}">
    </xacro:if>
    <xacro:if value="${number==7}">
      <xacro:property name="roller_x_rot" value="${(sin(roller_radians) * (pi/4) * type_offset)+(1.831*pi/180)}" />
      <xacro:property name="roller_y_rot" value="${(cos(roller_radians) * (pi/4) * type_offset)+(3.095*pi/180)}" />
      <xacro:property name="roller_z_rot" value="${(5.395*pi/180)}"/>
    </xacro:if> --><link name="front_left_roller_3"><visual><origin rpy="0 0 -1.5707963267948966 " xyz="0 0 0"/><geometry><mesh filename="package://grr_description/meshes/mecanum_roller.stl" scale="0.001 0.001 0.001"/></geometry><material name="grey"/></visual><collision><origin rpy="0 0 0" xyz="0 0 0"/><geometry><mesh filename="package://grr_description/meshes/mecanum_roller.stl" scale="0.001 0.001 0.001"/></geometry></collision><inertial><origin rpy="0 0 0" xyz="0 0 0"/><mass value="0.07"/><inertia ixx="9.426025000000001e-06" ixy="0.0" ixz="0.0" iyy="9.426025000000001e-06" iyz="0.0" izz="1.9166000000000004e-06"/></inertial></link><joint name="front_left_roller_3_joint" type="continuous"><origin rpy="0.5553603672697958 0 -0.5553603672697958" xyz="0.021223810037314224 0 -0.02122381003731422"/><parent link="front_left_mecanum_link"/><child link="front_left_roller_3"/><axis xyz="0.0 0.0 1.0"/></joint><!-- <xacro:if value="${number==1}">
    </xacro:if>
    <xacro:if value="${number==3}">
    </xacro:if>
    <xacro:if value="${number==5}">
    </xacro:if>
    <xacro:if value="${number==7}">
      <xacro:property name="roller_x_rot" value="${(sin(roller_radians) * (pi/4) * type_offset)+(1.831*pi/180)}" />
      <xacro:property name="roller_y_rot" value="${(cos(roller_radians) * (pi/4) * type_offset)+(3.095*pi/180)}" />
      <xacro:property name="roller_z_rot" value="${(5.395*pi/180)}"/>
    </xacro:if> --><link name="front_left_roller_4"><visual><origin rpy="0 0 -1.5707963267948966 " xyz="0 0 0"/><geometry><mesh filename="package://grr_description/meshes/mecanum_roller.stl" scale="0.001 0.001 0.001"/></geometry><material name="grey"/></visual><collision><origin rpy="0 0 0" xyz="0 0 0"/><geometry><mesh filename="package://grr_description/meshes/mecanum_roller.stl" scale="0.001 0.001 0.001"/></geometry></collision><inertial><origin rpy="0 0 0" xyz="0 0 0"/><mass value="0.07"/><inertia ixx="9.426025000000001e-06" ixy="0.0" ixz="0.0" iyy="9.426025000000001e-06" iyz="0.0" izz="1.9166000000000004e-06"/></inertial></link><joint name="front_left_roller_4_joint" type="continuous"><origin rpy="9.618353468608949e-17 0 -0.7853981633974483" xyz="3.675777367640781e-18 0 -0.030015"/><parent link="front_left_mecanum_link"/><child link="front_left_roller_4"/><axis xyz="0.0 0.0 1.0"/></joint><!-- <xacro:if value="${number==1}">
    </xacro:if>
    <xacro:if value="${number==3}">
    </xacro:if>
    <xacro:if value="${number==5}">
    </xacro:if>
    <xacro:if value="${number==7}">
      <xacro:property name="roller_x_rot" value="${(sin(roller_radians) * (pi/4) * type_offset)+(1.831*pi/180)}" />
      <xacro:property name="roller_y_rot" value="${(cos(roller_radians) * (pi/4) * type_offset)+(3.095*pi/180)}" />
      <xacro:property name="roller_z_rot" value="${(5.395*pi/180)}"/>
    </xacro:if> --><link name="front_left_roller_5"><visual><origin rpy="0 0 -1.5707963267948966 " xyz="0 0 0"/><geometry><mesh filename="package://grr_description/meshes/mecanum_roller.stl" scale="0.001 0.001 0.001"/></geometry><material name="grey"/></visual><collision><origin rpy="0 0 0" xyz="0 0 0"/><geometry><mesh filename="package://grr_description/meshes/mecanum_roller.stl" scale="0.001 0.001 0.001"/></geometry></collision><inertial><origin rpy="0 0 0" xyz="0 0 0"/><mass value="0.07"/><inertia ixx="9.426025000000001e-06" ixy="0.0" ixz="0.0" iyy="9.426025000000001e-06" iyz="0.0" izz="1.9166000000000004e-06"/></inertial></link><joint name="front_left_roller_5_joint" type="continuous"><origin rpy="-0.5553603672697958 0 -0.5553603672697959" xyz="-0.02122381003731422 0 -0.021223810037314227"/><parent link="front_left_mecanum_link"/><child link="front_left_roller_5"/><axis xyz="0.0 0.0 1.0"/></joint><!-- <xacro:if value="${number==1}">
    </xacro:if>
    <xacro:if value="${number==3}">
    </xacro:if>
    <xacro:if value="${number==5}">
    </xacro:if>
    <xacro:if value="${number==7}">
      <xacro:property name="roller_x_rot" value="${(sin(roller_radians) * (pi/4) * type_offset)+(1.831*pi/180)}" />
      <xacro:property name="roller_y_rot" value="${(cos(roller_radians) * (pi/4) * type_offset)+(3.095*pi/180)}" />
      <xacro:property name="roller_z_rot" value="${(5.395*pi/180)}"/>
    </xacro:if> --><link name="front_left_roller_6"><visual><origin rpy="0 0 -1.5707963267948966 " xyz="0 0 0"/><geometry><mesh filename="package://grr_description/meshes/mecanum_roller.stl" scale="0.001 0.001 0.001"/></geometry><material name="grey"/></visual><collision><origin rpy="0 0 0" xyz="0 0 0"/><geometry><mesh filename="package://grr_description/meshes/mecanum_roller.stl" scale="0.001 0.001 0.001"/></geometry></collision><inertial><origin rpy="0 0 0" xyz="0 0 0"/><mass value="0.07"/><inertia ixx="9.426025000000001e-06" ixy="0.0" ixz="0.0" iyy="9.426025000000001e-06" iyz="0.0" izz="1.9166000000000004e-06"/></inertial></link><joint name="front_left_roller_6_joint" type="continuous"><origin rpy="-0.7853981633974483 0 -1.4427530202913423e-16" xyz="-0.030015 0 -5.513666051461171e-18"/><parent link="front_left_mecanum_link"/><child link="front_left_roller_6"/><axis xyz="0.0 0.0 1.0"/></joint><!-- <xacro:if value="${number==1}">
    </xacro:if>
    <xacro:if value="${number==3}">
    </xacro:if>
    <xacro:if value="${number==5}">
    </xacro:if>
    <xacro:if value="${number==7}">
      <xacro:property name="roller_x_rot" value="${(sin(roller_radians) * (pi/4) * type_offset)+(1.831*pi/180)}" />
      <xacro:property name="roller_y_rot" value="${(cos(roller_radians) * (pi/4) * type_offset)+(3.095*pi/180)}" />
      <xacro:property name="roller_z_rot" value="${(5.395*pi/180)}"/>
    </xacro:if> --><link name="front_left_roller_7"><visual><origin rpy="0 0 -1.5707963267948966 " xyz="0 0 0"/><geometry><mesh filename="package://grr_description/meshes/mecanum_roller.stl" scale="0.001 0.001 0.001"/></geometry><material name="grey"/></visual><collision><origin rpy="0 0 0" xyz="0 0 0"/><geometry><mesh filename="package://grr_description/meshes/mecanum_roller.stl" scale="0.001 0.001 0.001"/></geometry></collision><inertial><origin rpy="0 0 0" xyz="0 0 0"/><mass value="0.07"/><inertia ixx="9.426025000000001e-06" ixy="0.0" ixz="0.0" iyy="9.426025000000001e-06" iyz="0.0" izz="1.9166000000000004e-06"/></inertial></link><joint name="front_left_roller_7_joint" type="continuous"><origin rpy="-0.5553603672697959 0 0.5553603672697957" xyz="-0.021223810037314227 0 0.02122381003731422"/><parent link="front_left_mecanum_link"/><child link="front_left_roller_7"/><axis xyz="0.0 0.0 1.0"/></joint><link name="rear_right_mecanum_link"><inertial><origin rpy="0 1.5707963267948966 0" xyz="0 0 0"/><mass value="1.1360000000000001"/><inertia ixx="0.00042284766390000004" ixy="0.0" ixz="0.0" iyy="0.00042284766390000004" iyz="0.0" izz="0.0005117113278"/></inertial><visual><origin rpy="0 0 0" xyz="0 0 0"/><geometry><mesh filename="package://grr_description/meshes/mecanum_wheel_2.stl" scale="0.001 0.001 0.001"/></geometry><material name="orange"/></visual><collision><origin rpy="0 0 0" xyz="0 0 0"/><geometry><cylinder length="0.042" radius="0.030015"/></geometry></collision></link><joint name="rear_right_mecanum_joint" type="continuous"><origin rpy="0 -1.5707963267948966 0" xyz="0.10075 -0.10075 0"/><parent link="chassis_link"/><child link="rear_right_mecanum_link"/><axis xyz="0.0 1.0 0.0 "/></joint><!-- <xacro:if value="${number==1}">
    </xacro:if>
    <xacro:if value="${number==3}">
    </xacro:if>
    <xacro:if value="${number==5}">
    </xacro:if>
    <xacro:if value="${number==7}">
      <xacro:property name="roller_x_rot" value="${(sin(roller_radians) * (pi/4) * type_offset)+(1.831*pi/180)}" />
      <xacro:property name="roller_y_rot" value="${(cos(roller_radians) * (pi/4) * type_offset)+(3.095*pi/180)}" />
      <xacro:property name="roller_z_rot" value="${(5.395*pi/180)}"/>
    </xacro:if> --><link name="rear_right_roller_0"><visual><origin rpy="0 0 -1.5707963267948966 " xyz="0 0 0"/><geometry><mesh filename="package://grr_description/meshes/mecanum_roller.stl" scale="0.001 0.001 0.001"/></geometry><material name="grey"/></visual><collision><origin rpy="0 0 0" xyz="0 0 0"/><geometry><mesh filename="package://grr_description/meshes/mecanum_roller.stl" scale="0.001 0.001 0.001"/></geometry></collision><inertial><origin rpy="0 0 0" xyz="0 0 0"/><mass value="0.07"/><inertia ixx="9.426025000000001e-06" ixy="0.0" ixz="0.0" iyy="9.426025000000001e-06" iyz="0.0" izz="1.9166000000000004e-06"/></inertial></link><joint name="rear_right_roller_0_joint" type="continuous"><origin rpy="0.0 0 0.7853981633974483" xyz="0.0 0 0.030015"/><parent link="rear_right_mecanum_link"/><child link="rear_right_roller_0"/><axis xyz="0.0 0.0 1.0"/></joint><!-- <xacro:if value="${number==1}">
    </xacro:if>
    <xacro:if value="${number==3}">
    </xacro:if>
    <xacro:if value="${number==5}">
    </xacro:if>
    <xacro:if value="${number==7}">
      <xacro:property name="roller_x_rot" value="${(sin(roller_radians) * (pi/4) * type_offset)+(1.831*pi/180)}" />
      <xacro:property name="roller_y_rot" value="${(cos(roller_radians) * (pi/4) * type_offset)+(3.095*pi/180)}" />
      <xacro:property name="roller_z_rot" value="${(5.395*pi/180)}"/>
    </xacro:if> --><link name="rear_right_roller_1"><visual><origin rpy="0 0 -1.5707963267948966 " xyz="0 0 0"/><geometry><mesh filename="package://grr_description/meshes/mecanum_roller.stl" scale="0.001 0.001 0.001"/></geometry><material name="grey"/></visual><collision><origin rpy="0 0 0" xyz="0 0 0"/><geometry><mesh filename="package://grr_description/meshes/mecanum_roller.stl" scale="0.001 0.001 0.001"/></geometry></collision><inertial><origin rpy="0 0 0" xyz="0 0 0"/><mass value="0.07"/><inertia ixx="9.426025000000001e-06" ixy="0.0" ixz="0.0" iyy="9.426025000000001e-06" iyz="0.0" izz="1.9166000000000004e-06"/></inertial></link><joint name="rear_right_roller_1_joint" type="continuous"><origin rpy="0.5553603672697958 0 0.5553603672697958" xyz="0.02122381003731422 0 0.021223810037314224"/><parent link="rear_right_mecanum_link"/><child link="rear_right_roller_1"/><axis xyz="0.0 0.0 1.0"/></joint><!-- <xacro:if value="${number==1}">
    </xacro:if>
    <xacro:if value="${number==3}">
    </xacro:if>
    <xacro:if value="${number==5}">
    </xacro:if>
    <xacro:if value="${number==7}">
      <xacro:property name="roller_x_rot" value="${(sin(roller_radians) * (pi/4) * type_offset)+(1.831*pi/180)}" />
      <xacro:property name="roller_y_rot" value="${(cos(roller_radians) * (pi/4) * type_offset)+(3.095*pi/180)}" />
      <xacro:property name="roller_z_rot" value="${(5.395*pi/180)}"/>
    </xacro:if> --><link name="rear_right_roller_2"><visual><origin rpy="0 0 -1.5707963267948966 " xyz="0 0 0"/><geometry><mesh filename="package://grr_description/meshes/mecanum_roller.stl" scale="0.001 0.001 0.001"/></geometry><material name="grey"/></visual><collision><origin rpy="0 0 0" xyz="0 0 0"/><geometry><mesh filename="package://grr_description/meshes/mecanum_roller.stl" scale="0.001 0.001 0.001"/></geometry></collision><inertial><origin rpy="0 0 0" xyz="0 0 0"/><mass value="0.07"/><inertia ixx="9.426025000000001e-06" ixy="0.0" ixz="0.0" iyy="9.426025000000001e-06" iyz="0.0" izz="1.9166000000000004e-06"/></inertial></link><joint name="rear_right_roller_2_joint" type="continuous"><origin rpy="0.7853981633974483 0 4.8091767343044744e-17" xyz="0.030015 0 1.8378886838203904e-18"/><parent link="rear_right_mecanum_link"/><child link="rear_right_roller_2"/><axis xyz="0.0 0.0 1.0"/></joint><!-- <xacro:if value="${number==1}">
    </xacro:if>
    <xacro:if value="${number==3}">
    </xacro:if>
    <xacro:if value="${number==5}">
    </xacro:if>
    <xacro:if value="${number==7}">
      <xacro:property name="roller_x_rot" value="${(sin(roller_radians) * (pi/4) * type_offset)+(1.831*pi/180)}" />
      <xacro:property name="roller_y_rot" value="${(cos(roller_radians) * (pi/4) * type_offset)+(3.095*pi/180)}" />
      <xacro:property name="roller_z_rot" value="${(5.395*pi/180)}"/>
    </xacro:if> --><link name="rear_right_roller_3"><visual><origin rpy="0 0 -1.5707963267948966 " xyz="0 0 0"/><geometry><mesh filename="package://grr_description/meshes/mecanum_roller.stl" scale="0.001 0.001 0.001"/></geometry><material name="grey"/></visual><collision><origin rpy="0 0 0" xyz="0 0 0"/><geometry><mesh filename="package://grr_description/meshes/mecanum_roller.stl" scale="0.001 0.001 0.001"/></geometry></collision><inertial><origin rpy="0 0 0" xyz="0 0 0"/><mass value="0.07"/><inertia ixx="9.426025000000001e-06" ixy="0.0" ixz="0.0" iyy="9.426025000000001e-06" iyz="0.0" izz="1.9166000000000004e-06"/></inertial></link><joint name="rear_right_roller_3_joint" type="continuous"><origin rpy="0.5553603672697958 0 -0.5553603672697958" xyz="0.021223810037314224 0 -0.02122381003731422"/><parent link="rear_right_mecanum_link"/><child link="rear_right_roller_3"/><axis xyz="0.0 0.0 1.0"/></joint><!-- <xacro:if value="${number==1}">
    </xacro:if>
    <xacro:if value="${number==3}">
    </xacro:if>
    <xacro:if value="${number==5}">
    </xacro:if>
    <xacro:if value="${number==7}">
      <xacro:property name="roller_x_rot" value="${(sin(roller_radians) * (pi/4) * type_offset)+(1.831*pi/180)}" />
      <xacro:property name="roller_y_rot" value="${(cos(roller_radians) * (pi/4) * type_offset)+(3.095*pi/180)}" />
      <xacro:property name="roller_z_rot" value="${(5.395*pi/180)}"/>
    </xacro:if> --><link name="rear_right_roller_4"><visual><origin rpy="0 0 -1.5707963267948966 " xyz="0 0 0"/><geometry><mesh filename="package://grr_description/meshes/mecanum_roller.stl" scale="0.001 0.001 0.001"/></geometry><material name="grey"/></visual><collision><origin rpy="0 0 0" xyz="0 0 0"/><geometry><mesh filename="package://grr_description/meshes/mecanum_roller.stl" scale="0.001 0.001 0.001"/></geometry></collision><inertial><origin rpy="0 0 0" xyz="0 0 0"/><mass value="0.07"/><inertia ixx="9.426025000000001e-06" ixy="0.0" ixz="0.0" iyy="9.426025000000001e-06" iyz="0.0" izz="1.9166000000000004e-06"/></inertial></link><joint name="rear_right_roller_4_joint" type="continuous"><origin rpy="9.618353468608949e-17 0 -0.7853981633974483" xyz="3.675777367640781e-18 0 -0.030015"/><parent link="rear_right_mecanum_link"/><child link="rear_right_roller_4"/><axis xyz="0.0 0.0 1.0"/></joint><!-- <xacro:if value="${number==1}">
    </xacro:if>
    <xacro:if value="${number==3}">
    </xacro:if>
    <xacro:if value="${number==5}">
    </xacro:if>
    <xacro:if value="${number==7}">
      <xacro:property name="roller_x_rot" value="${(sin(roller_radians) * (pi/4) * type_offset)+(1.831*pi/180)}" />
      <xacro:property name="roller_y_rot" value="${(cos(roller_radians) * (pi/4) * type_offset)+(3.095*pi/180)}" />
      <xacro:property name="roller_z_rot" value="${(5.395*pi/180)}"/>
    </xacro:if> --><link name="rear_right_roller_5"><visual><origin rpy="0 0 -1.5707963267948966 " xyz="0 0 0"/><geometry><mesh filename="package://grr_description/meshes/mecanum_roller.stl" scale="0.001 0.001 0.001"/></geometry><material name="grey"/></visual><collision><origin rpy="0 0 0" xyz="0 0 0"/><geometry><mesh filename="package://grr_description/meshes/mecanum_roller.stl" scale="0.001 0.001 0.001"/></geometry></collision><inertial><origin rpy="0 0 0" xyz="0 0 0"/><mass value="0.07"/><inertia ixx="9.426025000000001e-06" ixy="0.0" ixz="0.0" iyy="9.426025000000001e-06" iyz="0.0" izz="1.9166000000000004e-06"/></inertial></link><joint name="rear_right_roller_5_joint" type="continuous"><origin rpy="-0.5553603672697958 0 -0.5553603672697959" xyz="-0.02122381003731422 0 -0.021223810037314227"/><parent link="rear_right_mecanum_link"/><child link="rear_right_roller_5"/><axis xyz="0.0 0.0 1.0"/></joint><!-- <xacro:if value="${number==1}">
    </xacro:if>
    <xacro:if value="${number==3}">
    </xacro:if>
    <xacro:if value="${number==5}">
    </xacro:if>
    <xacro:if value="${number==7}">
      <xacro:property name="roller_x_rot" value="${(sin(roller_radians) * (pi/4) * type_offset)+(1.831*pi/180)}" />
      <xacro:property name="roller_y_rot" value="${(cos(roller_radians) * (pi/4) * type_offset)+(3.095*pi/180)}" />
      <xacro:property name="roller_z_rot" value="${(5.395*pi/180)}"/>
    </xacro:if> --><link name="rear_right_roller_6"><visual><origin rpy="0 0 -1.5707963267948966 " xyz="0 0 0"/><geometry><mesh filename="package://grr_description/meshes/mecanum_roller.stl" scale="0.001 0.001 0.001"/></geometry><material name="grey"/></visual><collision><origin rpy="0 0 0" xyz="0 0 0"/><geometry><mesh filename="package://grr_description/meshes/mecanum_roller.stl" scale="0.001 0.001 0.001"/></geometry></collision><inertial><origin rpy="0 0 0" xyz="0 0 0"/><mass value="0.07"/><inertia ixx="9.426025000000001e-06" ixy="0.0" ixz="0.0" iyy="9.426025000000001e-06" iyz="0.0" izz="1.9166000000000004e-06"/></inertial></link><joint name="rear_right_roller_6_joint" type="continuous"><origin rpy="-0.7853981633974483 0 -1.4427530202913423e-16" xyz="-0.030015 0 -5.513666051461171e-18"/><parent link="rear_right_mecanum_link"/><child link="rear_right_roller_6"/><axis xyz="0.0 0.0 1.0"/></joint><!-- <xacro:if value="${number==1}">
    </xacro:if>
    <xacro:if value="${number==3}">
    </xacro:if>
    <xacro:if value="${number==5}">
    </xacro:if>
    <xacro:if value="${number==7}">
      <xacro:property name="roller_x_rot" value="${(sin(roller_radians) * (pi/4) * type_offset)+(1.831*pi/180)}" />
      <xacro:property name="roller_y_rot" value="${(cos(roller_radians) * (pi/4) * type_offset)+(3.095*pi/180)}" />
      <xacro:property name="roller_z_rot" value="${(5.395*pi/180)}"/>
    </xacro:if> --><link name="rear_right_roller_7"><visual><origin rpy="0 0 -1.5707963267948966 " xyz="0 0 0"/><geometry><mesh filename="package://grr_description/meshes/mecanum_roller.stl" scale="0.001 0.001 0.001"/></geometry><material name="grey"/></visual><collision><origin rpy="0 0 0" xyz="0 0 0"/><geometry><mesh filename="package://grr_description/meshes/mecanum_roller.stl" scale="0.001 0.001 0.001"/></geometry></collision><inertial><origin rpy="0 0 0" xyz="0 0 0"/><mass value="0.07"/><inertia ixx="9.426025000000001e-06" ixy="0.0" ixz="0.0" iyy="9.426025000000001e-06" iyz="0.0" izz="1.9166000000000004e-06"/></inertial></link><joint name="rear_right_roller_7_joint" type="continuous"><origin rpy="-0.5553603672697959 0 0.5553603672697957" xyz="-0.021223810037314227 0 0.02122381003731422"/><parent link="rear_right_mecanum_link"/><child link="rear_right_roller_7"/><axis xyz="0.0 0.0 1.0"/></joint><!-- <xacro:becan
    parent="base_link"
    origin="0 0 0"
  /> --><link name="intake_link"><visual><origin rpy="0 0 0" xyz="0 0 0"/><geometry><mesh filename="package://grr_description/meshes/intake.stl" scale="1 1 1"/></geometry><material name="yellow"/></visual><collision><origin rpy="0 0 0" xyz="0 0 0"/><geometry><box size="0.1 0.1 0.1"/></geometry></collision></link><joint name="intake_joint" type="fixed"><parent link="chassis_link"/><child link="intake_link"/><origin rpy="0 3.141592653589793 0" xyz="0.055 0.025 0.105"/></joint><link name="intake_roller_1_link"><visual><origin rpy="0 0 0" xyz="0 0 0"/><geometry><mesh filename="package://grr_description/meshes/intake_roller.stl" scale="1 1 1"/></geometry><material name="red"/></visual><collision><origin rpy="0 0 0" xyz="0 0 0"/><geometry><box size="0.1 0.1 0.1"/></geometry></collision></link><joint name="intake_roller_1_joint" type="continuous"><parent link="intake_link"/><child link="intake_roller_1_link"/><origin rpy="0 0 0" xyz="-0.0675 -0.05 -0.095"/><axis xyz="0 1 0"/></joint><link name="intake_roller_2_link"><visual><origin rpy="0 0 3.1415" xyz="0 0 0"/><geometry><mesh filename="package://grr_description/meshes/intake_roller.stl" scale="1 1 1"/></geometry><material name="red"/></visual><collision><origin rpy="0 0 0" xyz="0 0 0"/><geometry><box size="0.1 0.1 0.1"/></geometry></collision></link><joint name="intake_roller_2_joint" type="continuous"><parent link="intake_link"/><child link="intake_roller_2_link"/><origin rpy="0 0 0" xyz="-0.075 0.01 0.05"/><axis xyz="0 1 0"/></joint><link name="sorter_link"><visual><origin rpy="0 0 3.141592653589793" xyz="-0.025 0 0"/><geometry><mesh filename="package://grr_description/meshes/sorter_stand.stl" scale="1 1 1"/></geometry><material name="yellow"/></visual><collision><origin rpy="0 0 0" xyz="0 0 0"/><geometry><box size="0.1 0.1 0.1"/></geometry></collision></link><joint name="sorter_joint" type="fixed"><parent link="chassis_link"/><child link="sorter_link"/><origin rpy="0 0 0" xyz="-0.025 0 0.125"/></joint><link name="sorter_turntable_link"><visual><origin rpy="0 0 0" xyz="0 0 0"/><geometry><mesh filename="package://grr_description/meshes/sorter.stl" scale="1 1 1"/></geometry><material name="red"/></visual><collision><origin rpy="0 0 0" xyz="0 0 0"/><geometry><box size="0.1 0.1 0.1"/></geometry></collision></link><joint name="sorter_turntable_joint" type="continuous"><parent link="sorter_link"/><child link="sorter_turntable_link"/><origin rpy="0 -0.3490658503988659 0" xyz="-0.075 0 0.03"/><axis xyz="0 0 1"/></joint><link name="left_bin_grabber_base_link"><visual><origin rpy="0 0 -1.57075" xyz="0 0 0"/><geometry><mesh filename="package://grr_description/meshes/bingrableft_bottom.stl" scale="0.001 0.001 0.001"/></geometry><material name="yellow"/></visual><collision><origin rpy="0 0 0" xyz="0 0 0"/><geometry><box size="0.1 0.1 0.1"/></geometry></collision></link><joint name="left_bin_grabber_base_link" type="fixed"><parent link="chassis_link"/><child link="left_bin_grabber_base_link"/><origin rpy="0 0 0" xyz="-0.105 -0.085 0.065"/></joint><link name="left_bin_grabber_pivot_link"><visual><origin rpy="0 0 -1.5707963267948966" xyz="0 0 0"/><geometry><mesh filename="package://grr_description/meshes/bingrableft_middle.stl" scale="0.001 0.001 0.001"/></geometry><material name="red"/></visual><collision><origin rpy="0 0 0" xyz="0 0 0"/><geometry><box size="0.1 0.1 0.1"/></geometry></collision></link><joint name="left_bin_grabber_pivot_joint" type="continuous"><parent link="left_bin_grabber_base_link"/><child link="left_bin_grabber_pivot_link"/><origin rpy="0 0 0" xyz="0.0 0.005 0"/><axis xyz="0 0 1"/></joint><link name="left_bin_grabber_finger_link"><visual><origin rpy="0 0 3.141592653589793" xyz="0 0 0"/><geometry><mesh filename="package://grr_description/meshes/bingrableft_top.stl" scale="0.001 0.001 0.001"/></geometry><material name="blue"/></visual><collision><origin rpy="0 0 0" xyz="0 0 0"/><geometry><box size="0.1 0.1 0.1"/></geometry></collision></link><joint name="left_bin_grabber_finger_joint" type="continuous"><parent link="left_bin_grabber_pivot_link"/><child link="left_bin_grabber_finger_link"/><origin rpy="0 0 0" xyz="-0.01 0.002 0.06"/><axis xyz="0 0 1"/></joint><link name="right_bin_grabber_base_link"><visual><origin rpy="0 0 1.57075" xyz="0 0 0"/><geometry><mesh filename="package://grr_description/meshes/bingrabright_bottom.stl" scale="0.001 0.001 0.001"/></geometry><material name="yellow"/></visual><collision><origin rpy="0 0 0" xyz="0 0 0"/><geometry><box size="0.1 0.1 0.1"/></geometry></collision></link><joint name="right_bin_grabber_base_link" type="fixed"><parent link="chassis_link"/><child link="right_bin_grabber_base_link"/><origin rpy="0 0 3.141592653589793" xyz="-0.105 0.085 0.065"/></joint><link name="right_bin_grabber_pivot_link"><visual><origin rpy="0 0 1.5707963267948966" xyz="0 0 0"/><geometry><mesh filename="package://grr_description/meshes/bingrabright_middle.stl" scale="0.001 0.001 0.001"/></geometry><material name="red"/></visual><collision><origin rpy="0 0 0" xyz="0 0 0"/><geometry><box size="0.1 0.1 0.1"/></geometry></collision></link><joint name="right_bin_grabber_pivot_joint" type="continuous"><parent link="right_bin_grabber_base_link"/><child link="right_bin_grabber_pivot_link"/><origin rpy="0 0 0" xyz="0.0 0.005 0"/><axis xyz="0 0 1"/></joint><link name="right_bin_grabber_finger_link"><visual><origin rpy="0 0 3.141592653589793" xyz="0 0 0"/><geometry><mesh filename="package://grr_description/meshes/bingrabright_top.stl" scale="0.001 0.001 0.001"/></geometry><material name="blue"/></visual><collision><origin rpy="0 0 0" xyz="0 0 0"/><geometry><box size="0.1 0.1 0.1"/></geometry></collision></link><joint name="right_bin_grabber_finger_joint" type="continuous"><parent link="right_bin_grabber_pivot_link"/><child link="right_bin_grabber_finger_link"/><origin rpy="0 0 0" xyz="0.01 0.002 0.06"/><axis xyz="0 0 1"/></joint><!-- Camera mounting point (the threaded screw hole in the bottom) --><link name="zed21_camera_link"/><joint name="zed21_camera_link_joint" type="fixed"><parent link="chassis_link"/><child link="zed21_camera_link"/><origin rpy="0.2617916666666667 1.57075 0" xyz="0 0 0"/></joint><!-- Camera Center --><link name="zed21_camera_center"><visual><origin rpy="0 0 0" xyz="-0.01 0 0.0"/><geometry><mesh filename="package://grr_description/meshes/zed2i.stl"/></geometry><material name="zed2i_mat"/></visual><collision><origin rpy="0 0 0" xyz="-0.01 0 0.0"/><geometry><mesh filename="package://grr_description/meshes/zed2i.stl"/></geometry></collision></link><joint name="zed21_camera_center_joint" type="fixed"><parent link="zed21_camera_link"/><child link="zed21_camera_center"/><origin rpy="0 0.0 0" xyz="0 0 0.015"/></joint><!-- Left Camera --><link name="zed21_left_camera_frame"></link><joint name="zed21_left_camera_joint" type="fixed"><parent link="zed21_camera_center"/><child link="zed21_left_camera_frame"/><origin rpy="0 0 0" xyz="-0.01 0.06 0"/></joint><link name="zed21_left_camera_optical_frame"/><joint name="zed21_left_camera_optical_joint" type="fixed"><origin rpy="0.0 1.5707963267948966 0.0" xyz="0 0 0"/><parent link="zed21_left_camera_frame"/><child link="zed21_left_camera_optical_frame"/></joint><!-- Right Camera --><link name="zed21_right_camera_frame"></link><joint name="zed21_right_camera_joint" type="fixed"><parent link="zed21_camera_center"/><child link="zed21_right_camera_frame"/><origin rpy="0 0 0" xyz="-0.01 -0.06 0"/></joint><link name="zed21_right_camera_optical_frame"/><joint name="zed21_right_camera_optical_joint" type="fixed"><origin rpy="0.0 1.5707963267948966 0.0" xyz="0 0 0"/><parent link="zed21_right_camera_frame"/><child link="zed21_right_camera_optical_frame"/></joint></robot>
